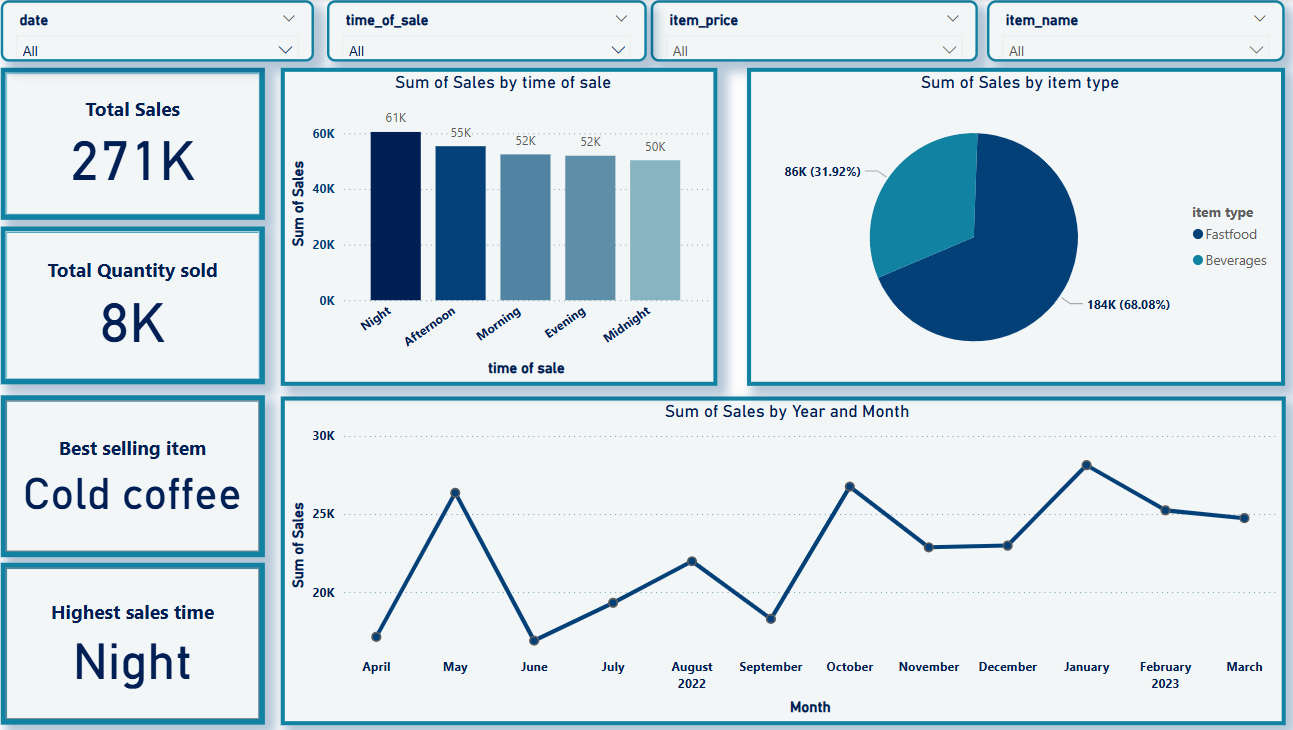

The page's visual inventory and layout, read from the dashboard file:
{"tool":"powerbi","page":{"name":"Page 1","canvas":[1280,720],"ordinal":0},"visuals":[{"type":"cardVisual","fields":{"Data":["Sum(Restaurant sales.Sales)"]},"box":[8.6,67.1,258.6,148.6],"z":0},{"type":"cardVisual","fields":{"Data":["Sum(Restaurant sales.quantity)"]},"box":[8.6,222.9,258.6,154.3],"z":1000},{"type":"cardVisual","fields":{"Data":["Restaurant sales.Most Frequent Item Name"]},"box":[8.8,387.5,258.8,158.8],"z":2000},{"type":"cardVisual","fields":{"Data":["Max(Restaurant sales.time_of_sale)"]},"box":[8.6,551.4,258.6,158.6],"z":3000},{"type":"slicer","fields":{"Values":["Restaurant sales.date"]},"box":[8.8,1.2,306.2,60],"z":4000},{"type":"slicer","fields":{"Values":["Restaurant sales.item_price"]},"box":[644.3,1.4,320,60],"z":5000},{"type":"slicer","fields":{"Values":["Restaurant sales.time_of_sale"]},"box":[327.5,1.2,312.5,60],"z":6000},{"type":"slicer","fields":{"Values":["Restaurant sales.item_name"]},"box":[973.8,1.2,291.2,60],"z":7000},{"type":"lineChart","fields":{"Y":["Sum(Restaurant sales.Sales)"],"Category":["Restaurant sales.date.Variation.Date Hierarchy.Year","Restaurant sales.date.Variation.Date Hierarchy.Month"]},"box":[282.9,388.6,982.9,321.4],"z":8000},{"type":"pieChart","fields":{"Y":["Sum(Restaurant sales.Sales)"],"Category":["Restaurant sales.item_type"]},"box":[738.8,67.5,526.2,311.2],"z":9000},{"type":"columnChart","fields":{"Category":["Restaurant sales.time_of_sale"],"Y":["Sum(Restaurant sales.Sales)"]},"box":[282.9,67.1,427.1,311.4],"z":10000}]}

Visuals, with their boxes in screenshot pixels (x1, y1, x2, y2), scaled from the page's 1280x720 canvas onto the 1293x730 screenshot:
cardVisual - Sum(Restaurant sales.Sales): [9, 68, 270, 219]
cardVisual - Sum(Restaurant sales.quantity): [9, 226, 270, 382]
cardVisual - Restaurant sales.Most Frequent Item Name: [9, 393, 270, 554]
cardVisual - Max(Restaurant sales.time_of_sale): [9, 559, 270, 720]
slicer - Restaurant sales.date: [9, 1, 318, 62]
slicer - Restaurant sales.item_price: [651, 1, 974, 62]
slicer - Restaurant sales.time_of_sale: [331, 1, 646, 62]
slicer - Restaurant sales.item_name: [984, 1, 1278, 62]
lineChart - Sum(Restaurant sales.Sales) x Restaurant sales.date.Variation.Date Hierarchy.Year: [286, 394, 1279, 720]
pieChart - Sum(Restaurant sales.Sales) x Restaurant sales.item_type: [746, 68, 1278, 384]
columnChart - Restaurant sales.time_of_sale x Sum(Restaurant sales.Sales): [286, 68, 717, 384]
